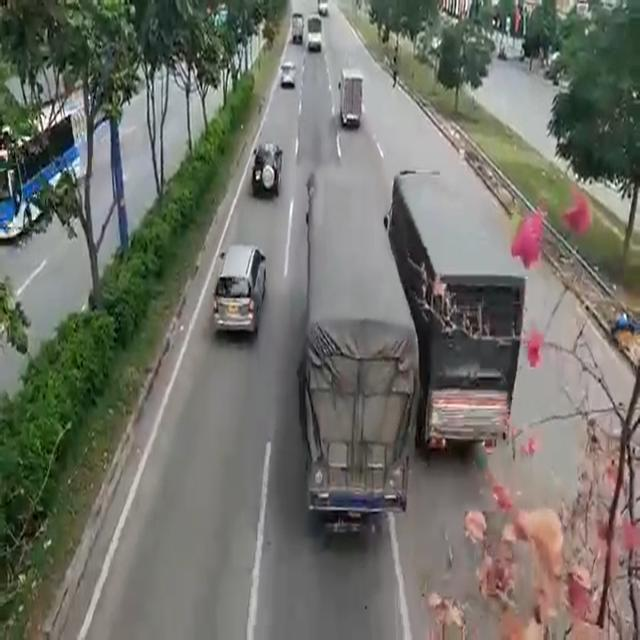car: (216, 235, 261, 334), (254, 135, 278, 202), (280, 58, 293, 94)
truck: (387, 149, 524, 457), (300, 166, 412, 528), (336, 72, 367, 133)
